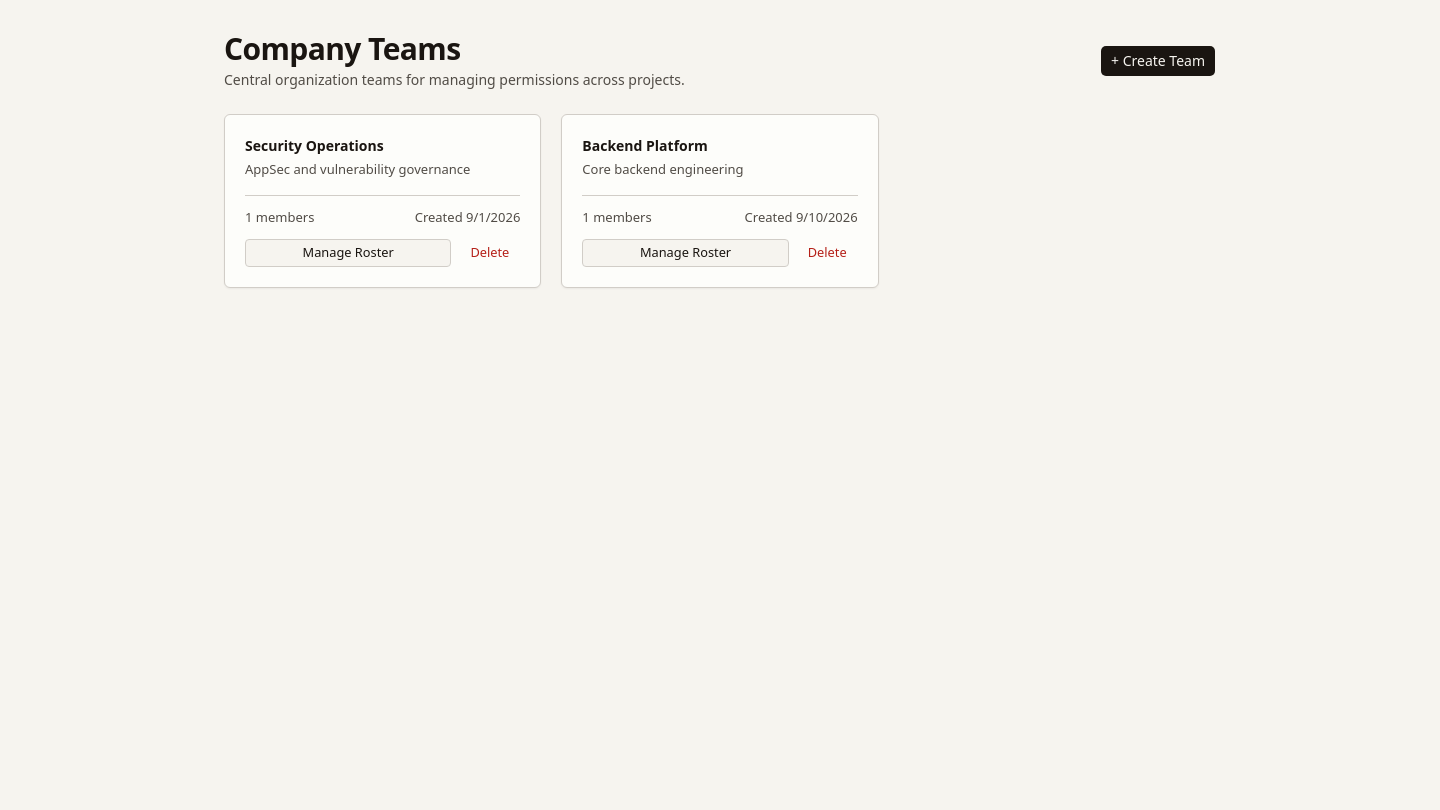
Test: TeamsDirectory › suggests people from the loaded directory without asking the server per key
This screenshot has width=1440, height=810.
Click the button "Manage Roster" below "9/1/2026" at (348, 253), box [245,239,451,267]
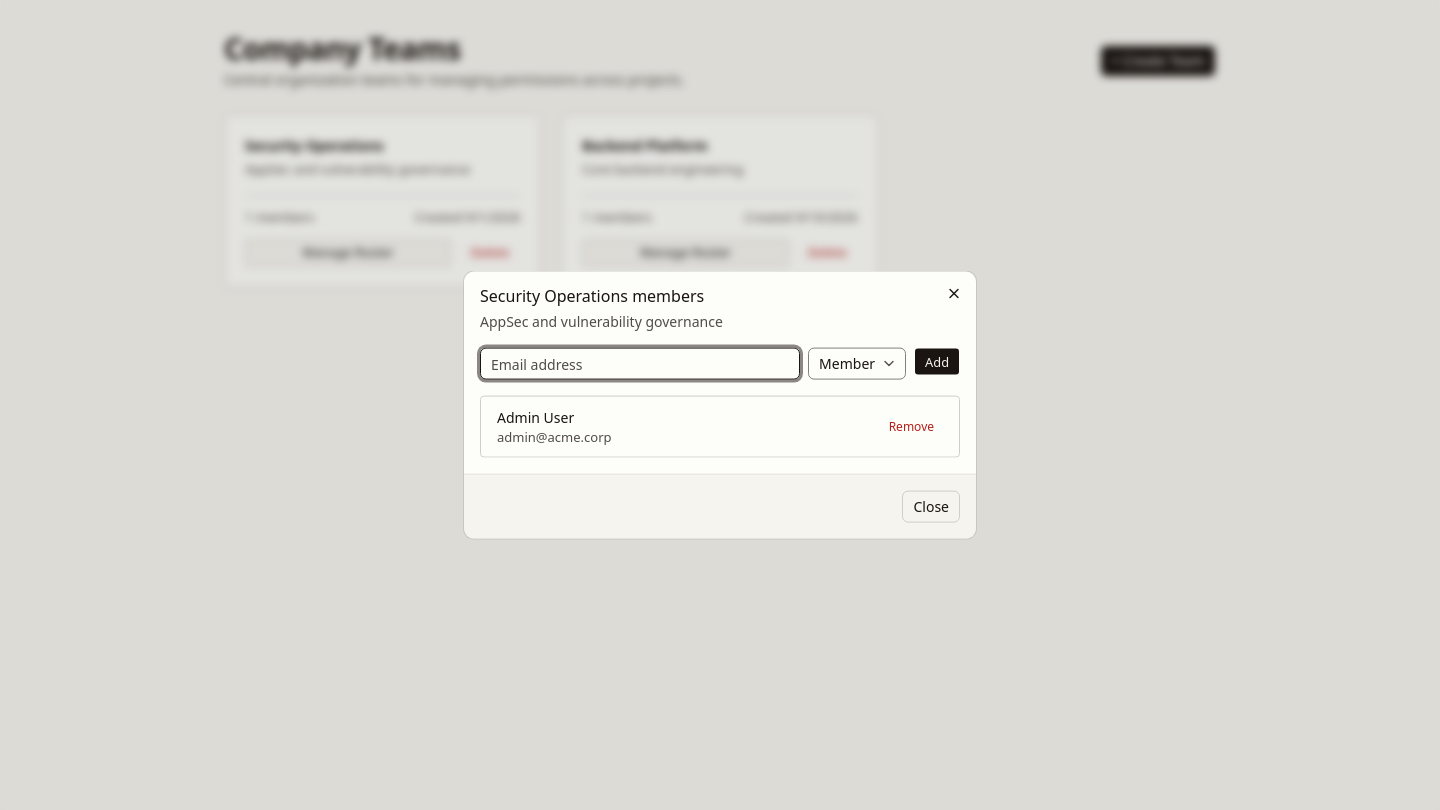
Type "adm" into the dropdown labelled "Email address" at (640, 364), box [480,348,800,380]
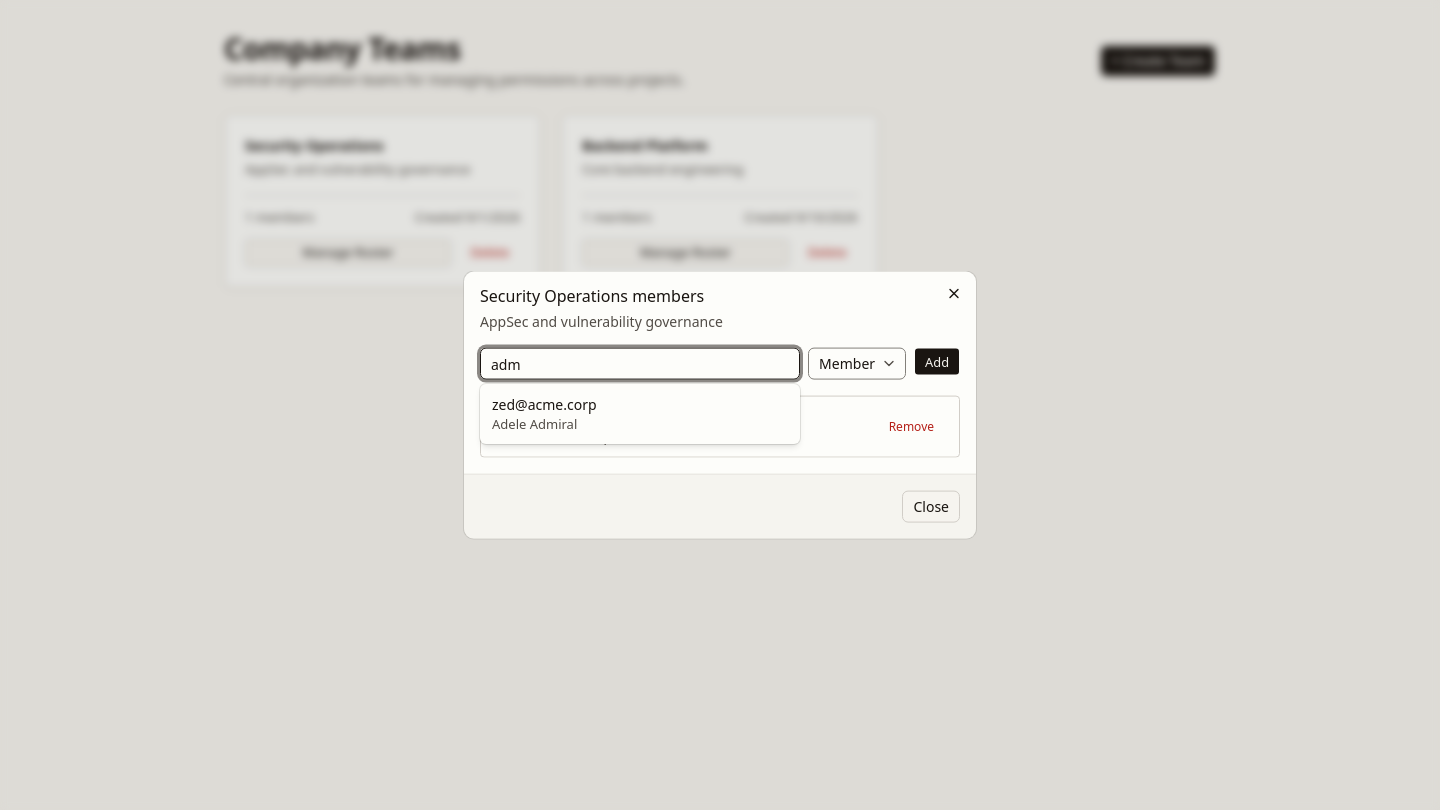
Replace the text in the dropdown named "Email address" with "ada" at (640, 364), box [480,348,800,380]
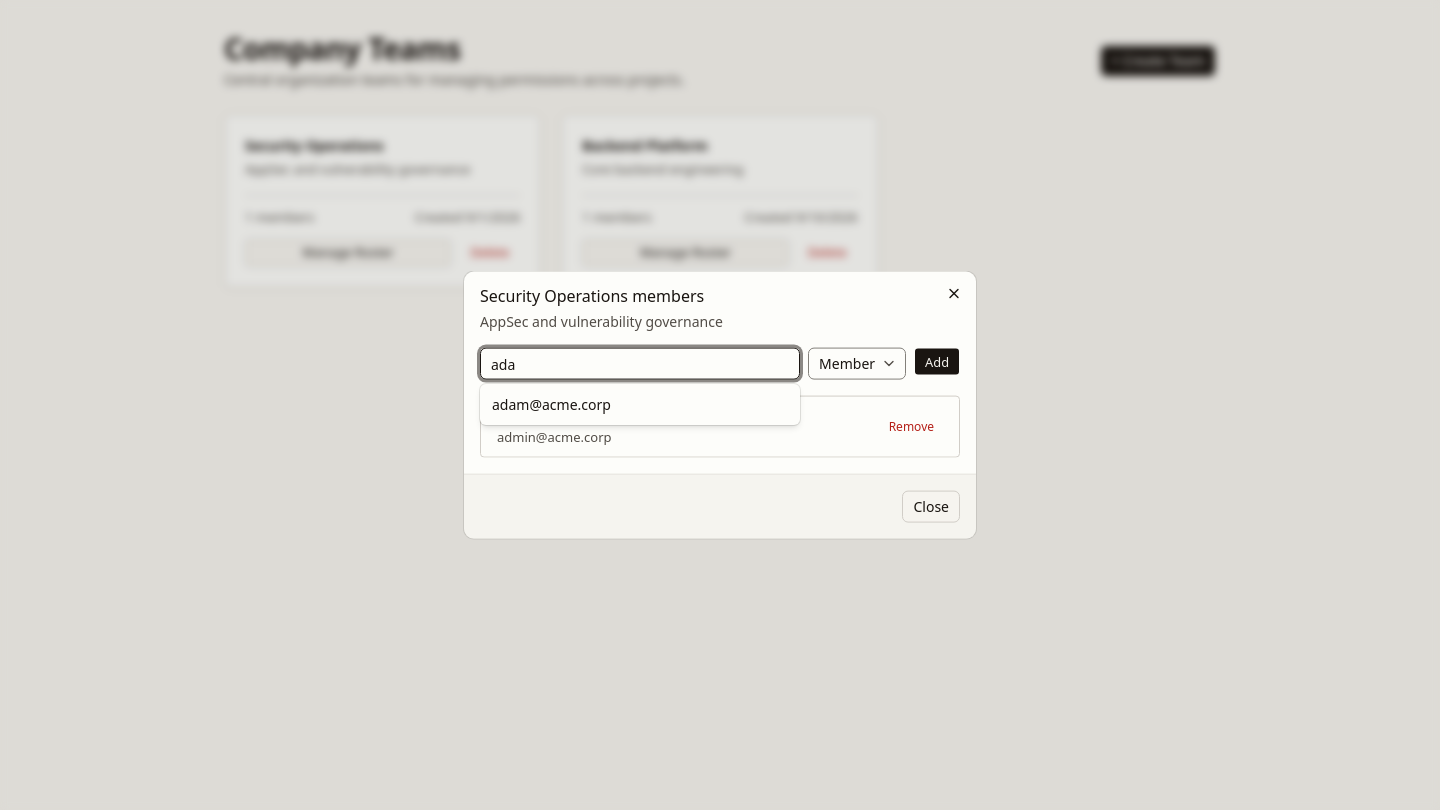
Press Arrowdown Enter
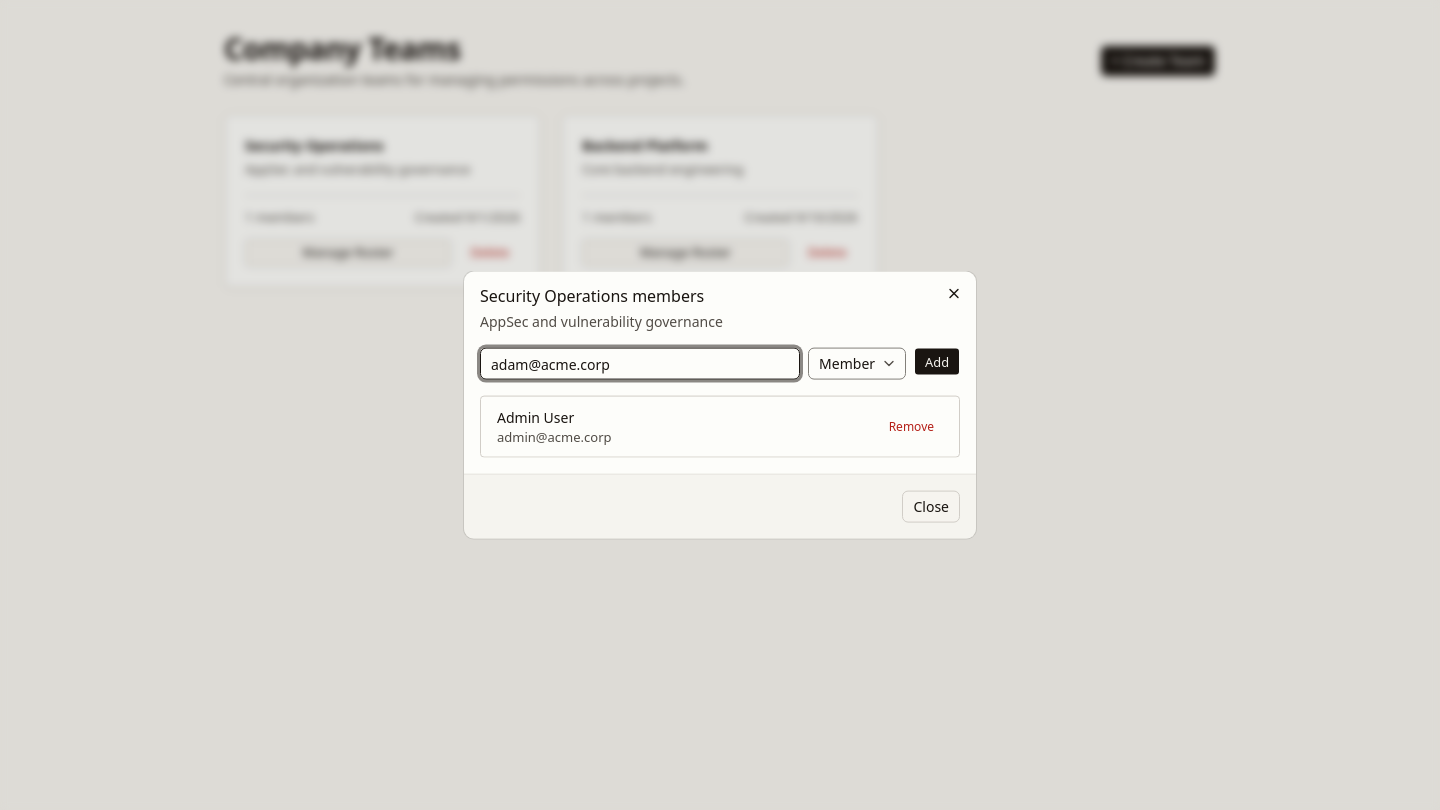
Check: the dropdown named "Email address" holds "adam@acme.corp", box [480,348,800,380]
